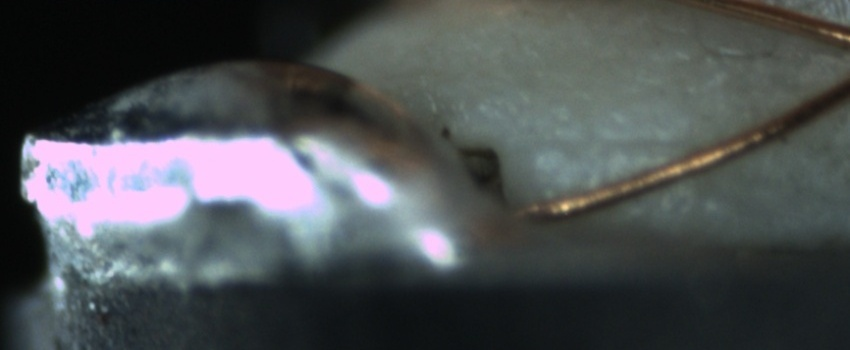DL: (534, 111, 688, 175)
